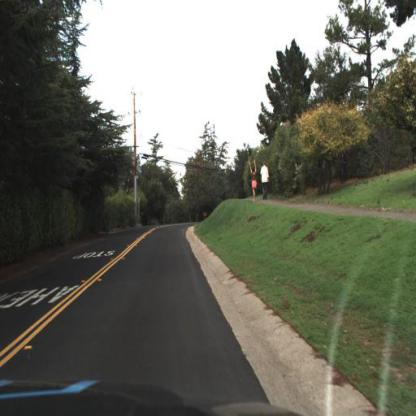pedestrian: (247, 163, 261, 202), (249, 167, 258, 205), (261, 162, 269, 202)
